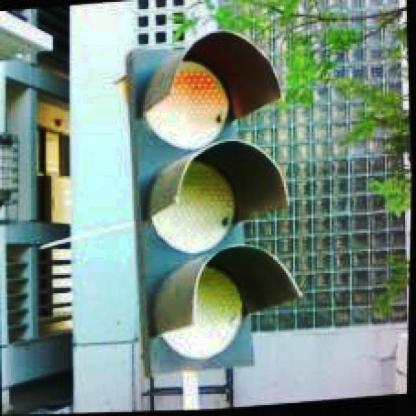Traffic Light -Red-: (116, 29, 298, 382)
